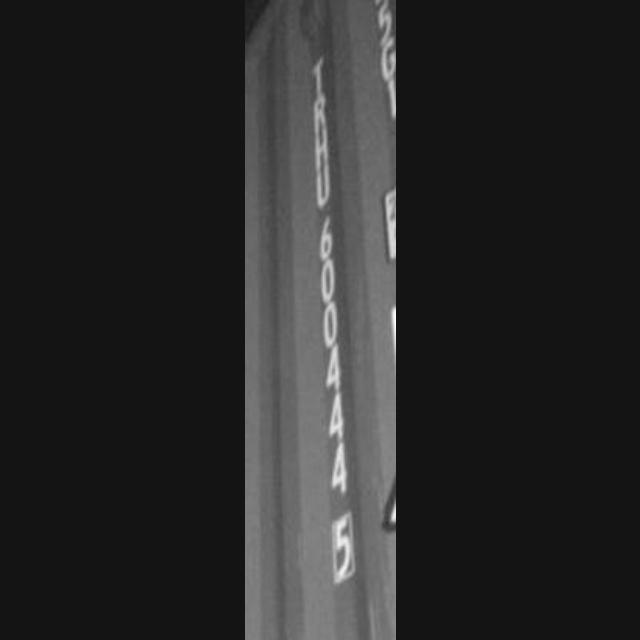0: (310, 298, 346, 348), (311, 256, 335, 304)
4: (318, 438, 358, 499), (314, 390, 354, 446), (317, 344, 349, 398)
5: (322, 508, 360, 584), (364, 0, 396, 48)
6: (308, 212, 340, 260)
g: (368, 35, 396, 83)
h: (297, 130, 343, 170)
r: (294, 95, 346, 138)
t: (296, 46, 334, 100)
u: (308, 162, 336, 210)
